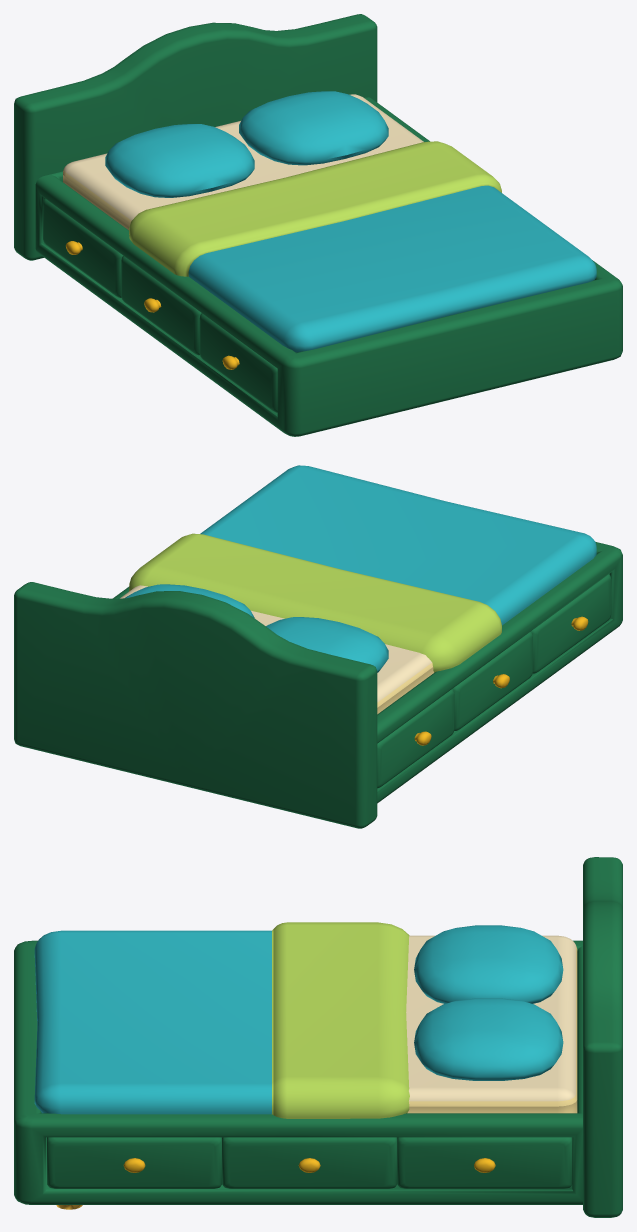
File: cama_casal_gavetas_verde_pacote.glb
3 views of the same model, one above another, from view 1: azimuth 30°, elevation 25°; view 2: azimuth 150°, elevation 25°; view 3: azimuth 270°, elevation 25° (orthographic). The views are drawn at different scales.
Parts seen in each view (by area): view 1: cama_casal_gavetas_verde_pacote, gaveta_esq_2, gaveta_esq_1, gaveta_esq_3; view 2: cama_casal_gavetas_verde_pacote, gaveta_esq_2, gaveta_esq_3, gaveta_esq_1; view 3: cama_casal_gavetas_verde_pacote, gaveta_dir_1, gaveta_dir_2, gaveta_dir_3.
Boxes of the visible parts, <box> form: cama_casal_gavetas_verde_pacote: <box>14,14,622,436</box>; gaveta_esq_2: <box>121,256,201,355</box>; gaveta_esq_1: <box>43,198,123,297</box>; gaveta_esq_3: <box>199,313,277,412</box>; cama_casal_gavetas_verde_pacote: <box>14,465,622,828</box>; gaveta_esq_2: <box>452,631,532,730</box>; gaveta_esq_3: <box>531,574,611,673</box>; gaveta_esq_1: <box>377,689,454,788</box>; cama_casal_gavetas_verde_pacote: <box>14,857,622,1217</box>; gaveta_dir_1: <box>397,1137,572,1188</box>; gaveta_dir_2: <box>222,1137,397,1188</box>; gaveta_dir_3: <box>47,1137,221,1188</box>.
Size of the model in its own units: 1.63 by 0.8008 by 2.14.
Materials: 1 (1 with a texture image).
